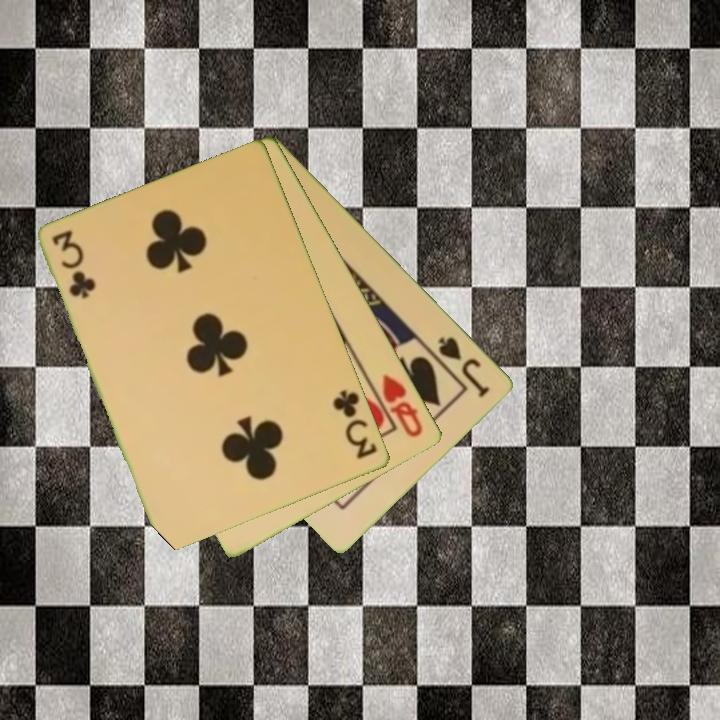3c: (329, 386, 381, 463), (49, 226, 98, 302)
Js: (434, 333, 493, 401)
Qh: (379, 370, 427, 441)
